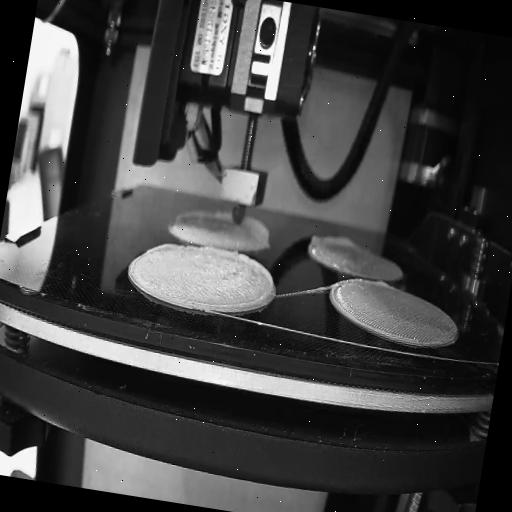over_extrusion: (201, 247, 279, 318), (304, 228, 356, 258), (236, 216, 274, 250), (146, 235, 180, 260), (372, 276, 392, 290), (212, 206, 229, 222)
